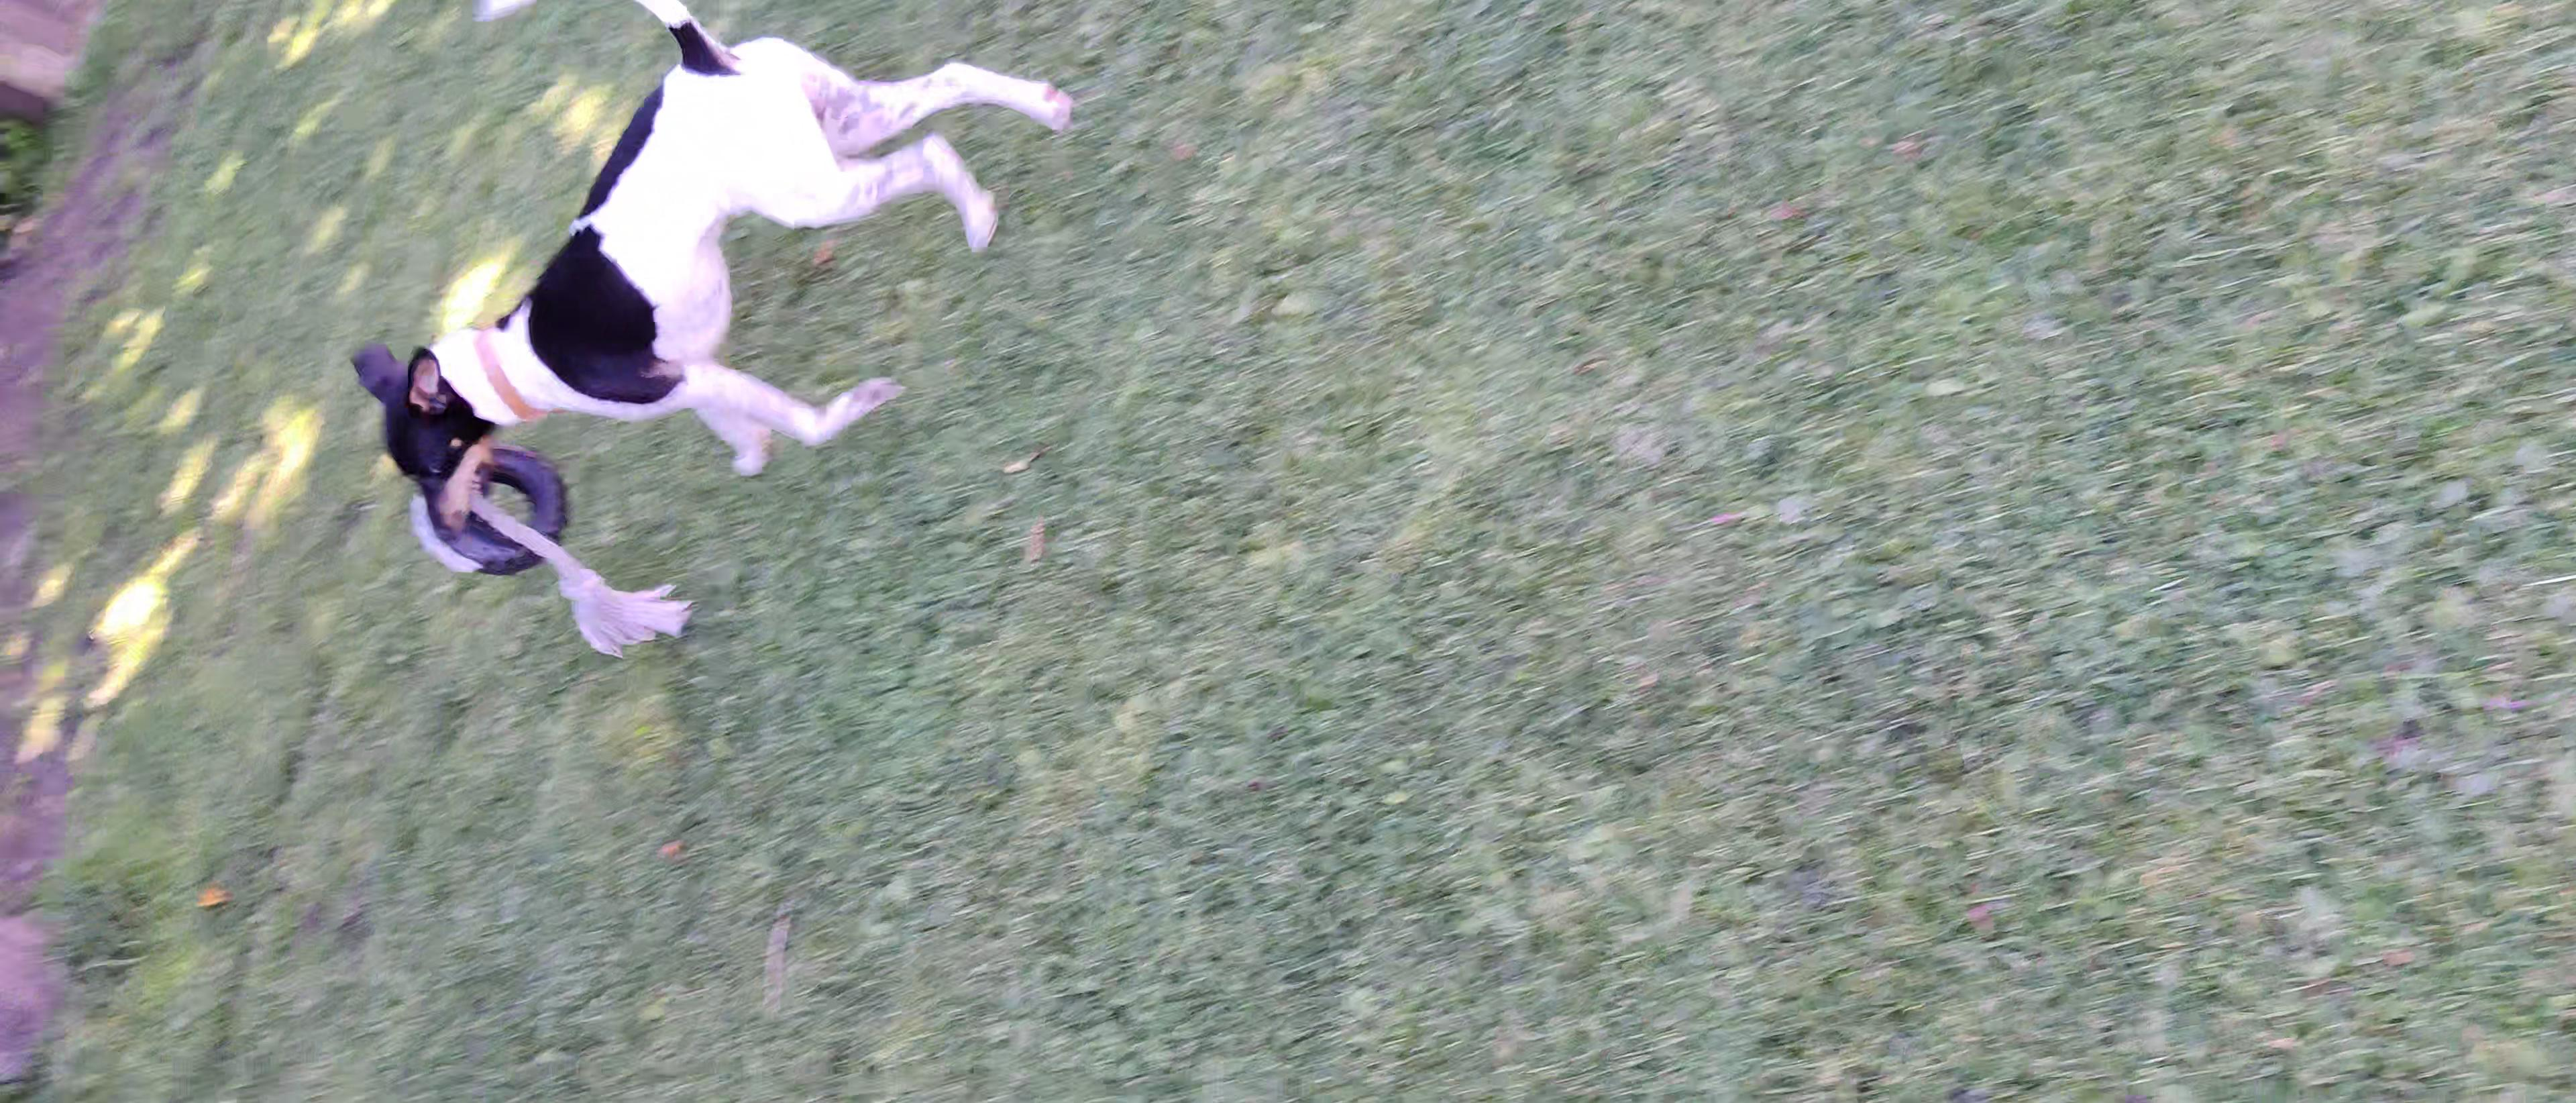Dog: (338, 0, 1092, 542)
